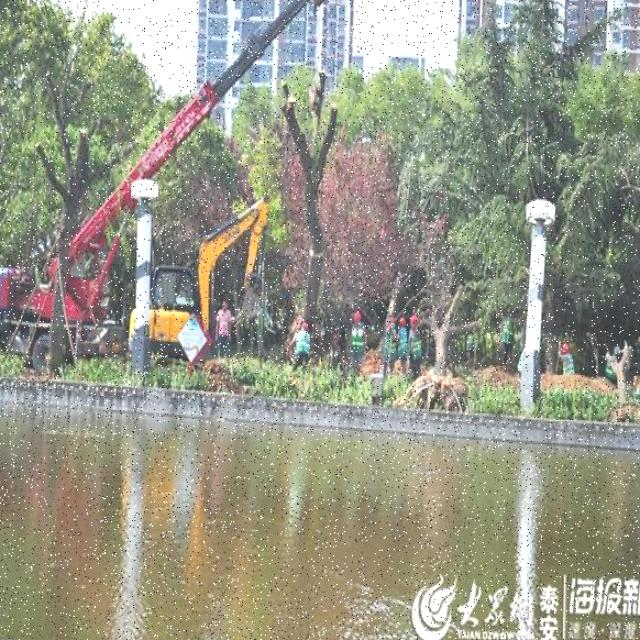fallen_object: (410, 249, 469, 409), (607, 345, 640, 427)
